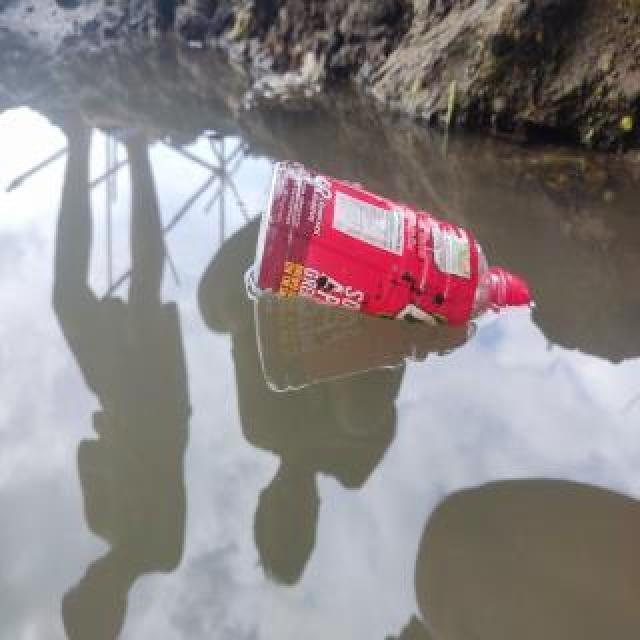bottle: (248, 151, 536, 333)
